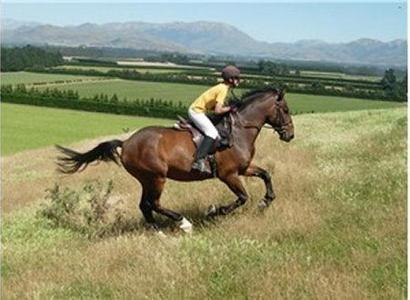person: (188, 65, 242, 176)
